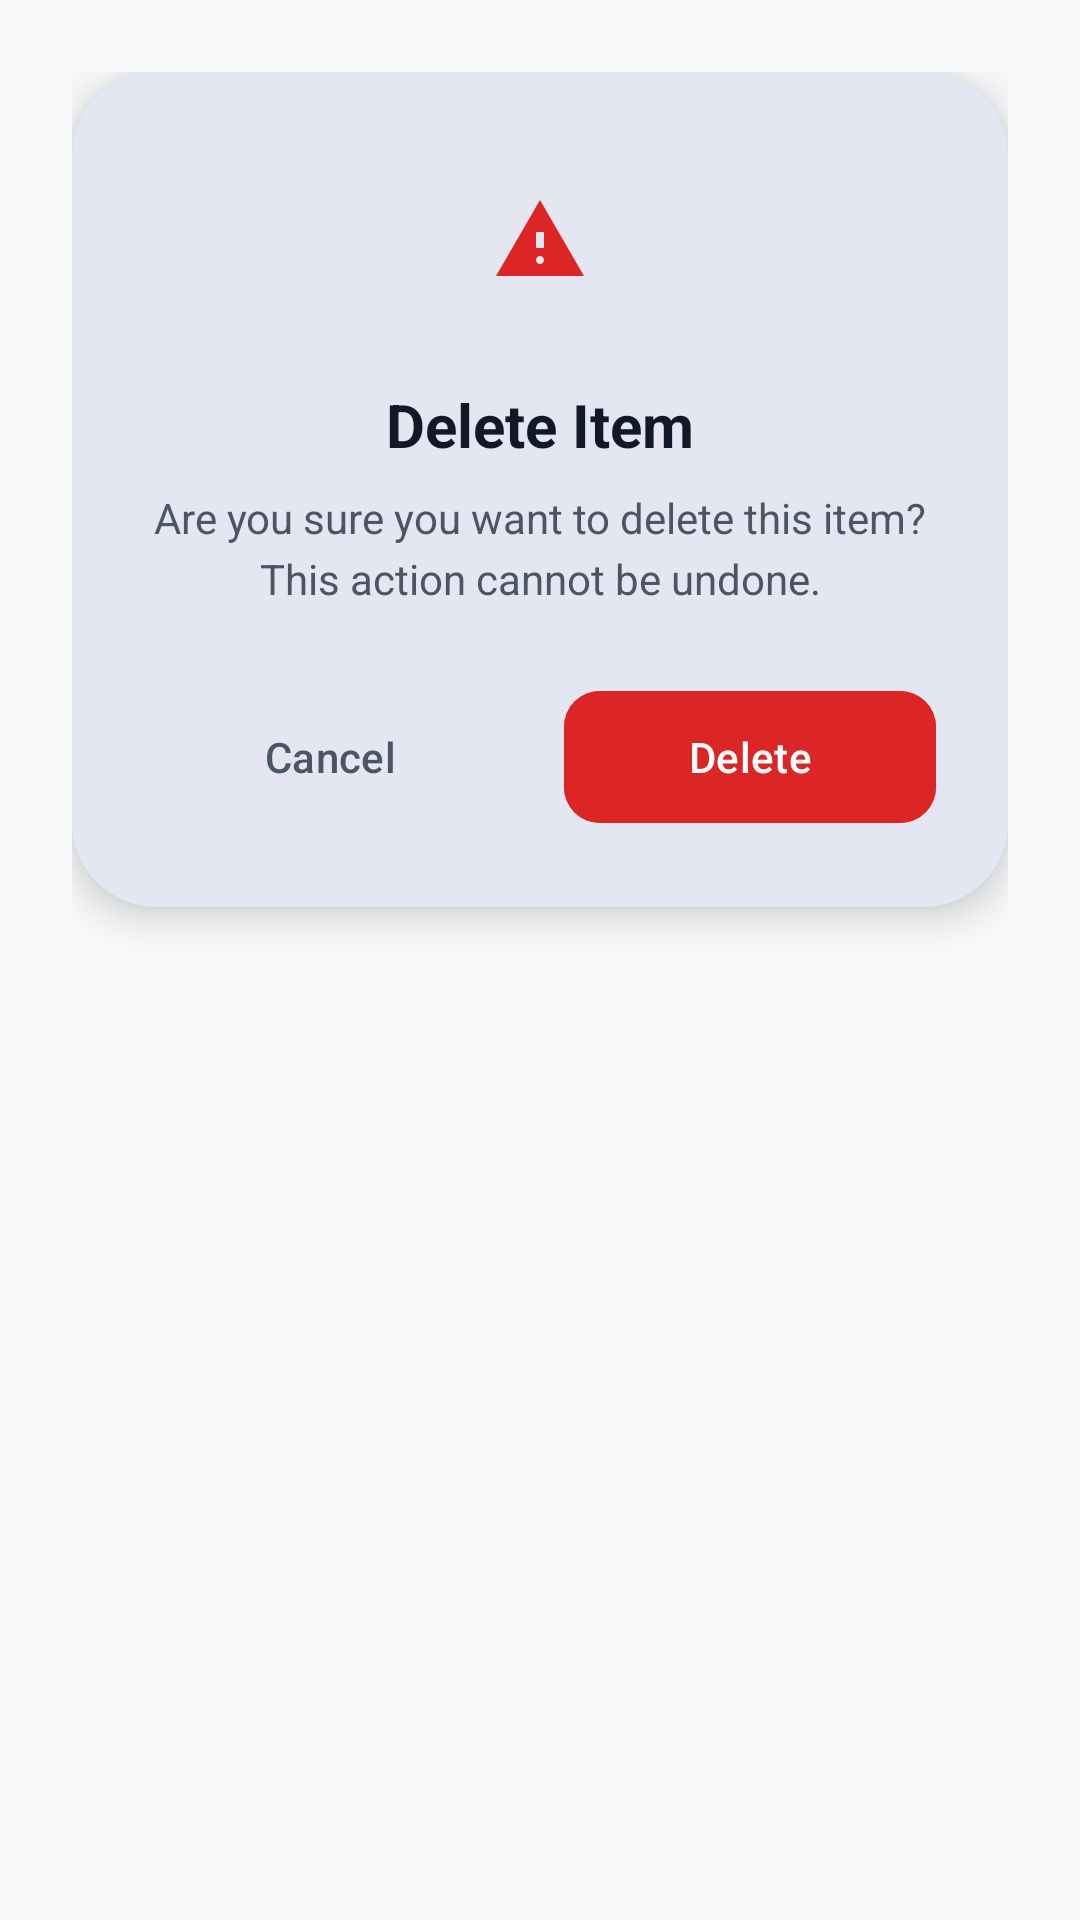

Icons on this 1080w x 1920h Android screen, each with its box as (x1, y1, x2, y2):
warning: (496, 200, 584, 276)
